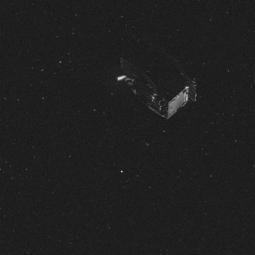lisa_pathfinder: (101, 38, 206, 123)
